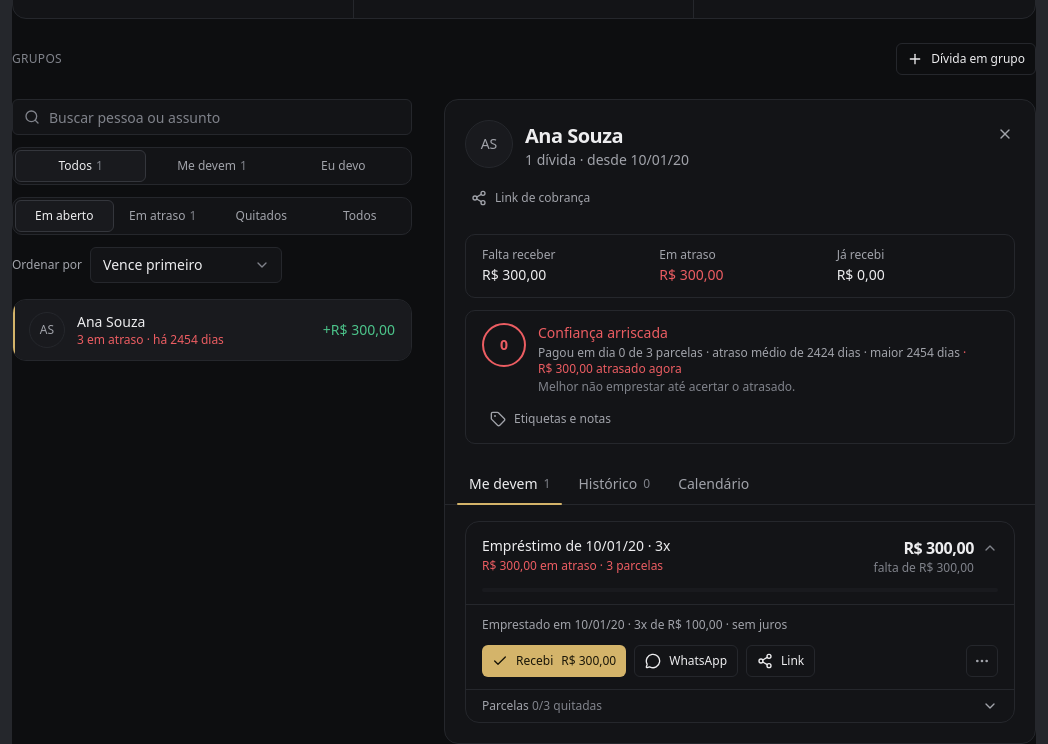
Scenario: Pessoas: WhatsApp › sem telefone o botão avisa onde cadastrar
(page scrolled)
Click the button "WhatsApp": [686, 661] box [634, 645, 738, 677]
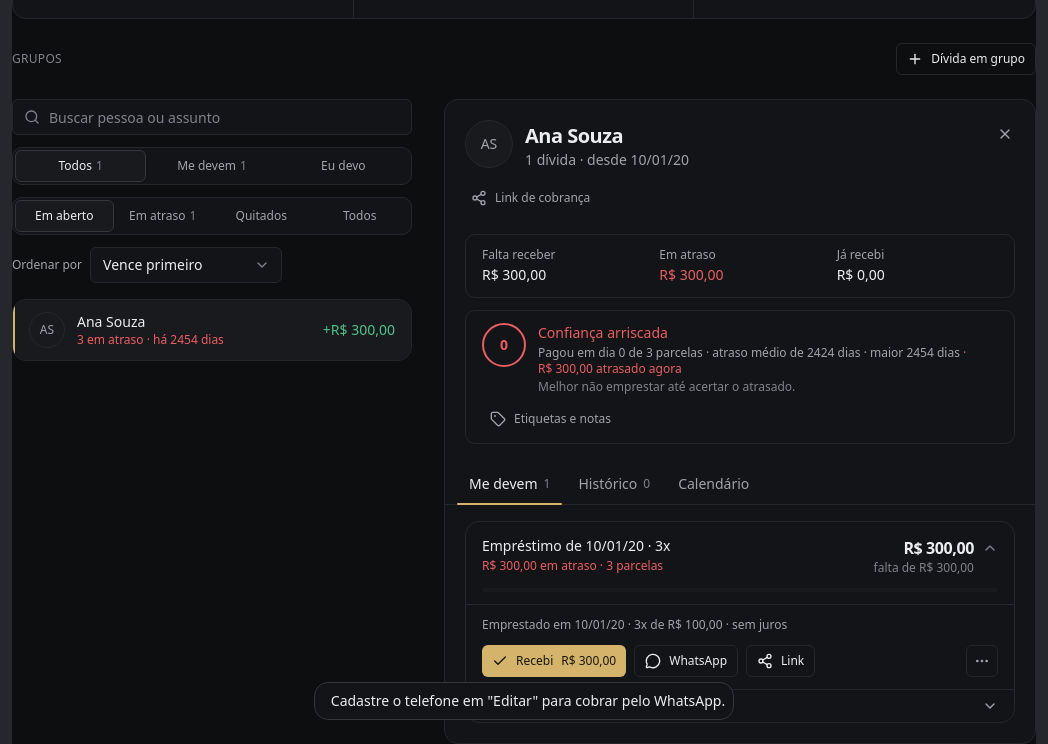
Expected: the text "Cadastre o telefone em \"Editar\" para cobrar pelo WhatsApp." is shown, [331, 691, 725, 711]
